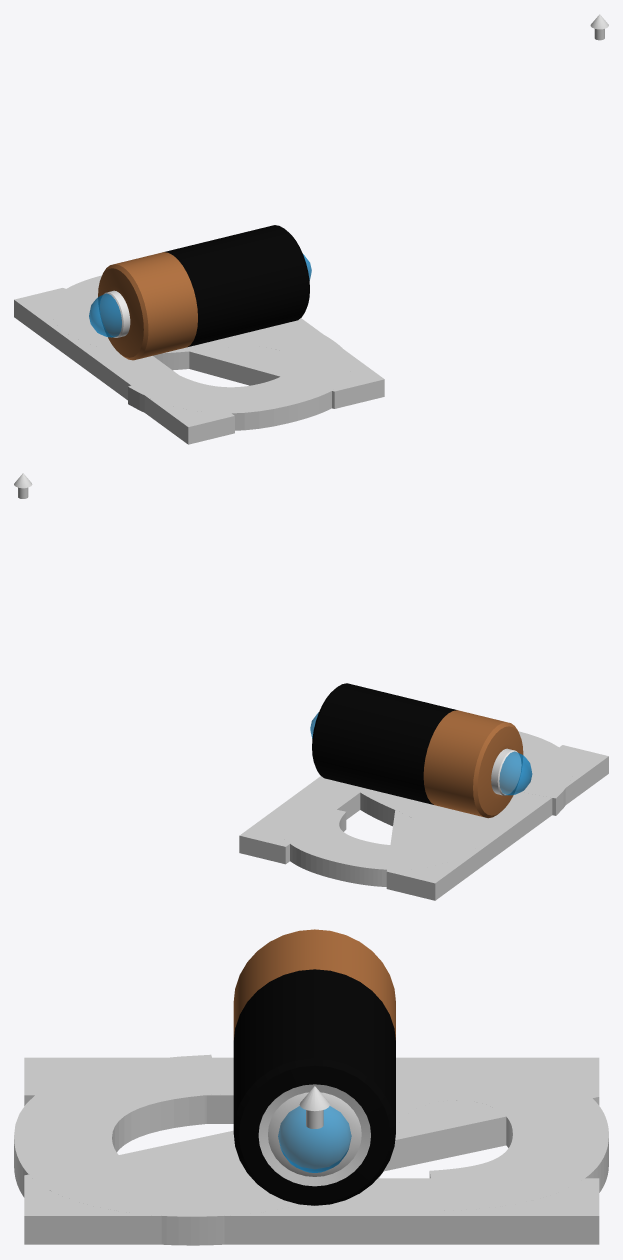
Rendered from solenoid_models.glb.
The picture shows the model from 3 angles, top to bottom: view 1: azimuth 30°, elevation 25°; view 2: azimuth 150°, elevation 25°; view 3: azimuth 270°, elevation 25°; orthographic projection. The views are drawn at different scales.
Visible parts, largest first — view 1: south_text, north_text, battery_piecemesh, battery_top_Prop, battery_metal, battery_Node1; view 2: south_text, battery_piecemesh, north_text, battery_top_Prop, battery_metal, battery_Node1; view 3: south_text, north_text, battery_piecemesh, battery_metal, battery_top_Prop, battery_Node2, current_particle.
Boxes of the visible parts, box(x1,y1,x2,y2) form: south_text: box(50, 275, 351, 430); north_text: box(14, 288, 384, 444); battery_piecemesh: box(165, 225, 309, 347); battery_top_Prop: box(98, 252, 197, 360); battery_metal: box(100, 290, 130, 337); battery_Node1: box(89, 293, 121, 337); south_text: box(278, 731, 573, 886); battery_piecemesh: box(312, 683, 457, 804); north_text: box(239, 745, 608, 900); battery_top_Prop: box(423, 710, 523, 818); battery_metal: box(491, 748, 521, 795); battery_Node1: box(499, 751, 532, 795); south_text: box(14, 1054, 608, 1245); north_text: box(24, 1057, 599, 1244); battery_piecemesh: box(233, 969, 395, 1205); battery_metal: box(258, 1084, 370, 1186); battery_top_Prop: box(233, 929, 395, 1039); battery_Node2: box(278, 1106, 351, 1172); current_particle: box(299, 1086, 329, 1128).
Size of what is drawn, in the model's own units: 0.2094 by 0.0946 by 0.1268.
